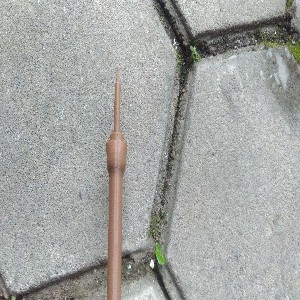solder: (105, 69, 128, 300)
